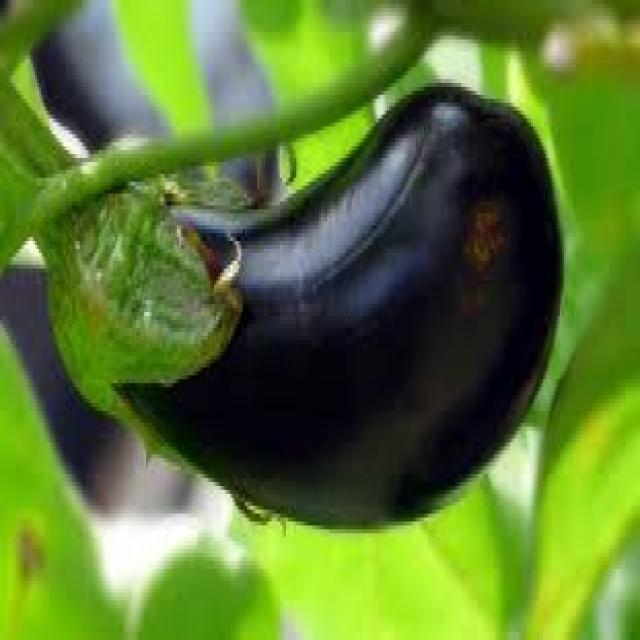eggplant: (74, 79, 560, 529)
